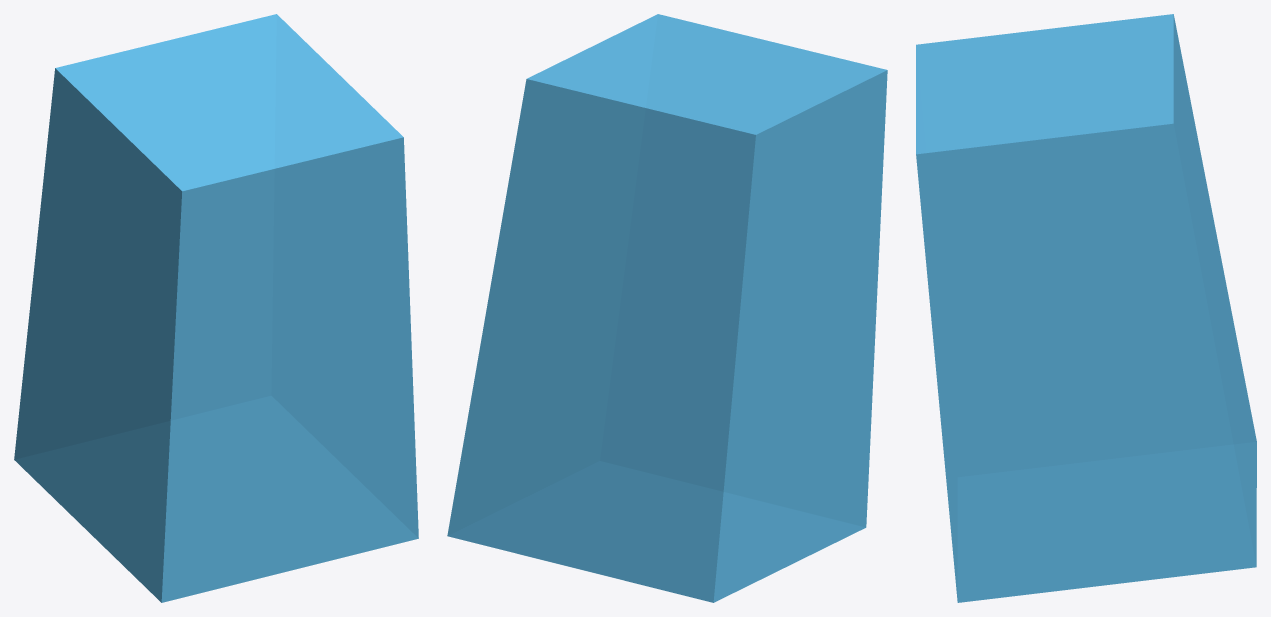
File: Event_420604493_HBrechit_25.fbx
The picture shows the model from 3 angles, left to right: view 1: azimuth 30°, elevation 25°; view 2: azimuth 150°, elevation 25°; view 3: azimuth 270°, elevation 25°; orthographic projection. The views are drawn at different scales.
Parts seen in each view (by area): view 1: Model; view 2: Model; view 3: Model.
Part boxes in pixels (bbox=[...]): Model: bbox=[14, 14, 418, 602]; Model: bbox=[447, 14, 887, 602]; Model: bbox=[916, 14, 1256, 602].
Bounding box in the file's own units: 0.4653 × 0.7901 × 0.5268.
